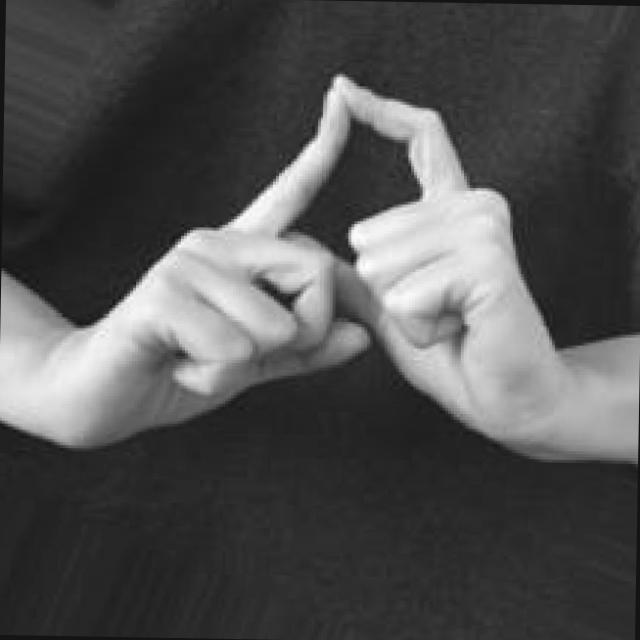D: (71, 64, 559, 461)
